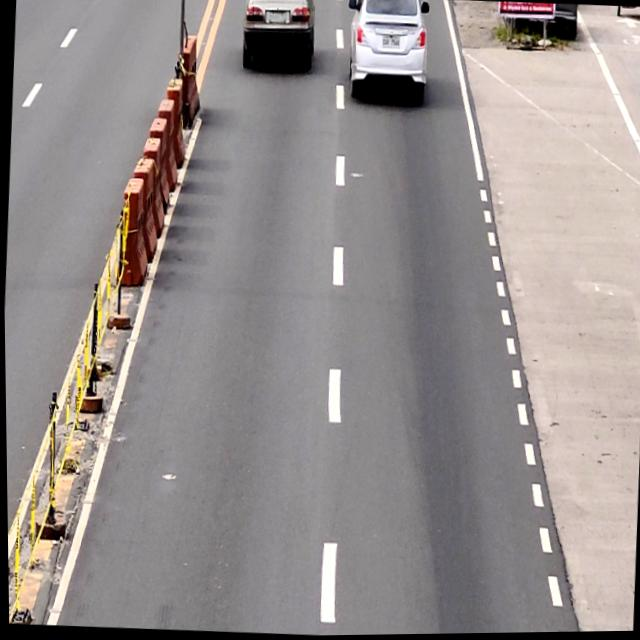Car: (343, 0, 432, 108), (241, 0, 317, 74)
License-Plate: (381, 36, 401, 50), (269, 12, 286, 24)
